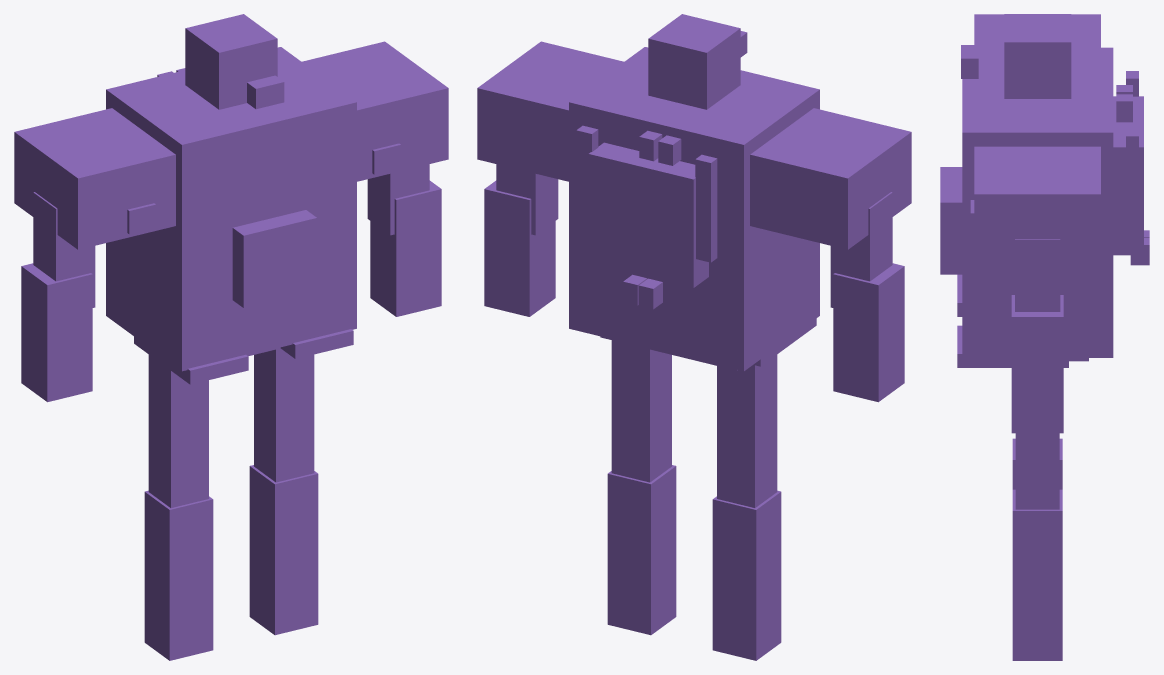
The model's file is mechfall_tyrantor.obj.
3 renders of one model, left to right at view 1: azimuth 30°, elevation 25°; view 2: azimuth 150°, elevation 25°; view 3: azimuth 270°, elevation 25°, orthographic.
Visible parts, largest first — view 1: mechfall_tyrantor; view 2: mechfall_tyrantor; view 3: mechfall_tyrantor.
Part boxes in pixels (x1,y1,x2,y2): mechfall_tyrantor: (14,14,448,660); mechfall_tyrantor: (477,14,911,660); mechfall_tyrantor: (940,14,1149,660).
Size of the model in its own units: 7.05 by 10.26 by 3.26.
